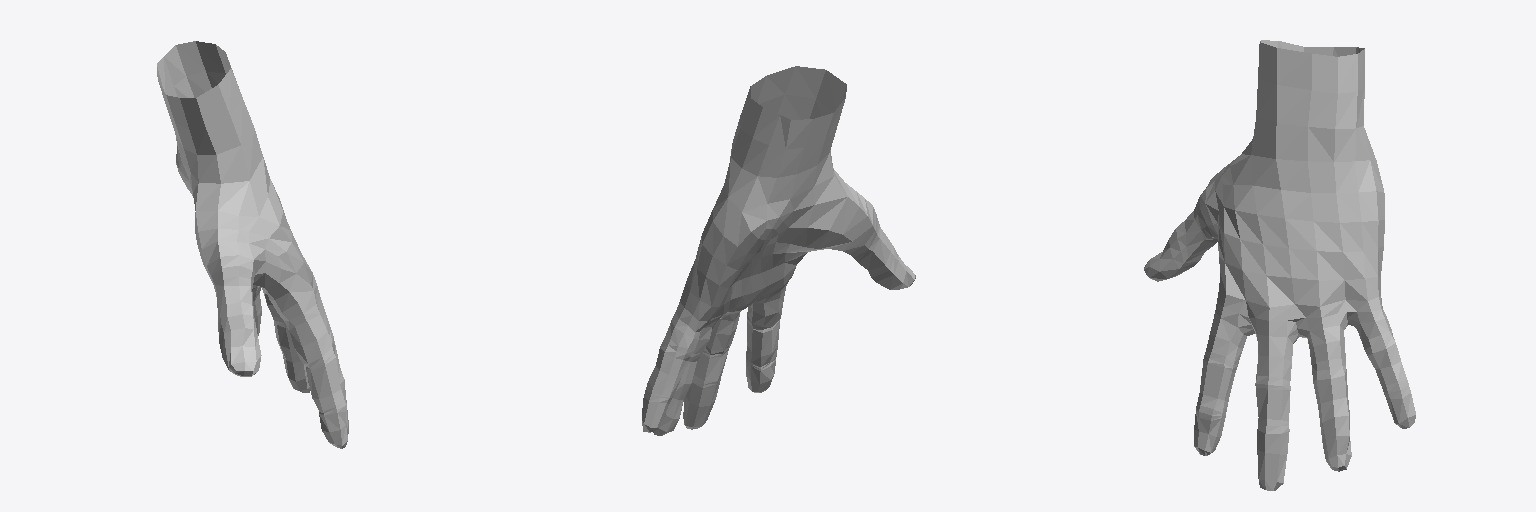
File: low poly hand.obj
The picture shows the model from 3 angles: view 1: azimuth 30°, elevation 25°; view 2: azimuth 150°, elevation 25°; view 3: azimuth 270°, elevation 25°; orthographic projection.
Parts seen in each view (by area): view 1: Hand_Retopo; view 2: Hand_Retopo; view 3: Hand_Retopo.
Boxes of the visible parts, <box> form: Hand_Retopo: <box>157,41,348,448</box>; Hand_Retopo: <box>642,66,915,435</box>; Hand_Retopo: <box>1144,40,1415,490</box>.
Size of the model in its own units: 9.41 by 20.23 by 12.79.